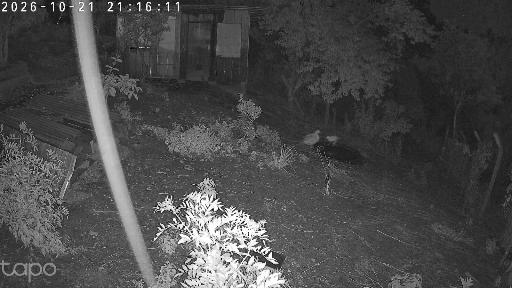pato: (303, 129, 321, 149), (327, 136, 340, 145)
